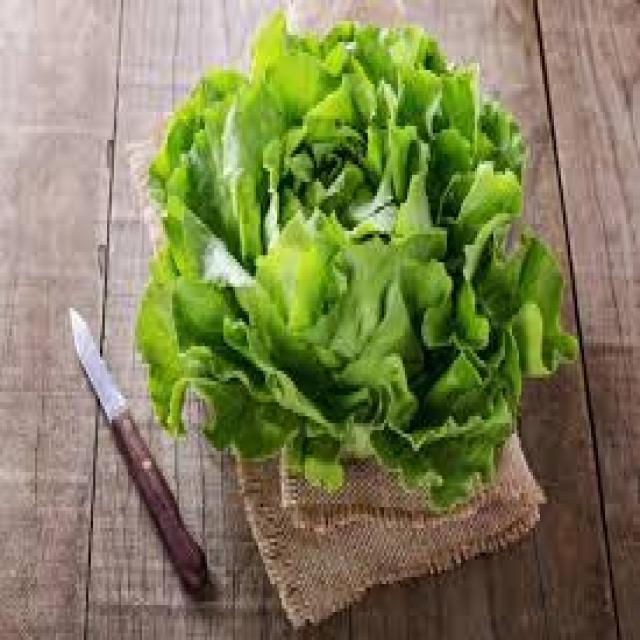Lettuce: (132, 10, 577, 508)
